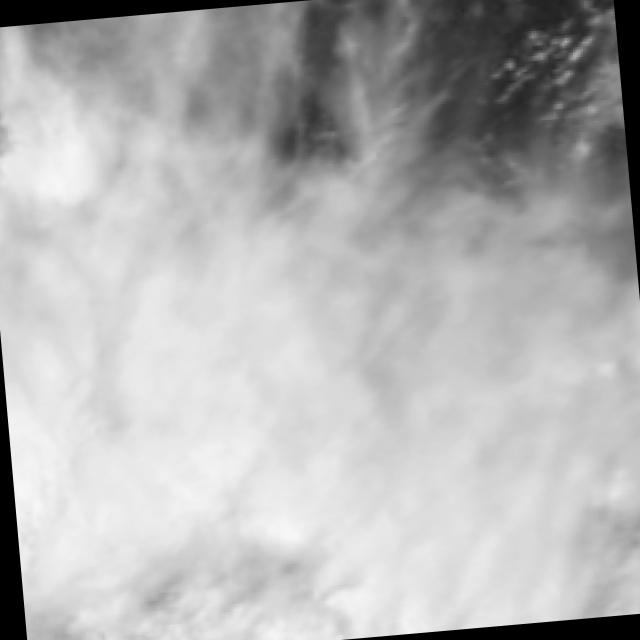CB: (0, 222, 546, 599), (324, 299, 582, 636)
